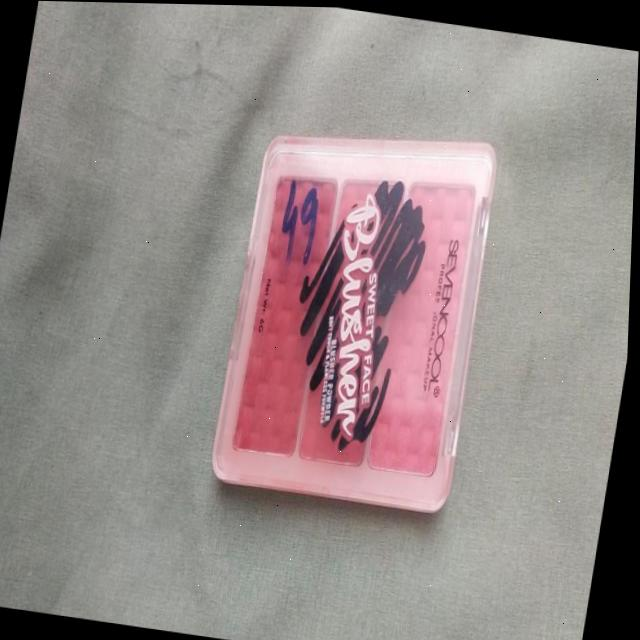blush: (194, 97, 511, 536)
